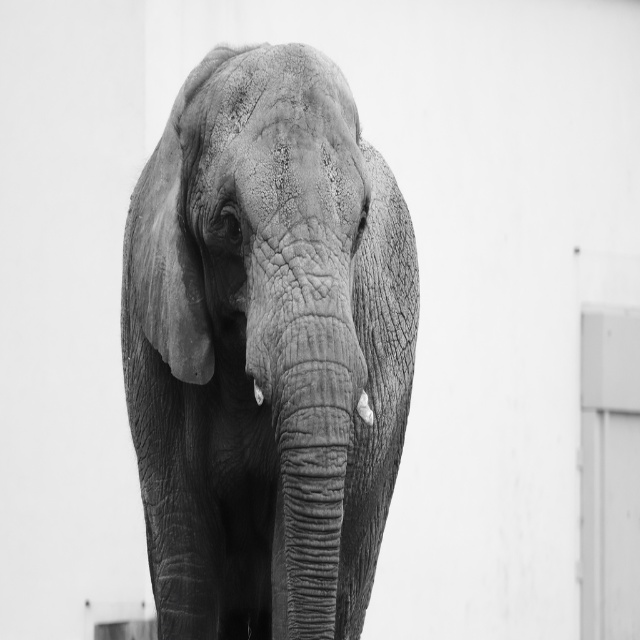Elephant: (110, 31, 432, 640)
